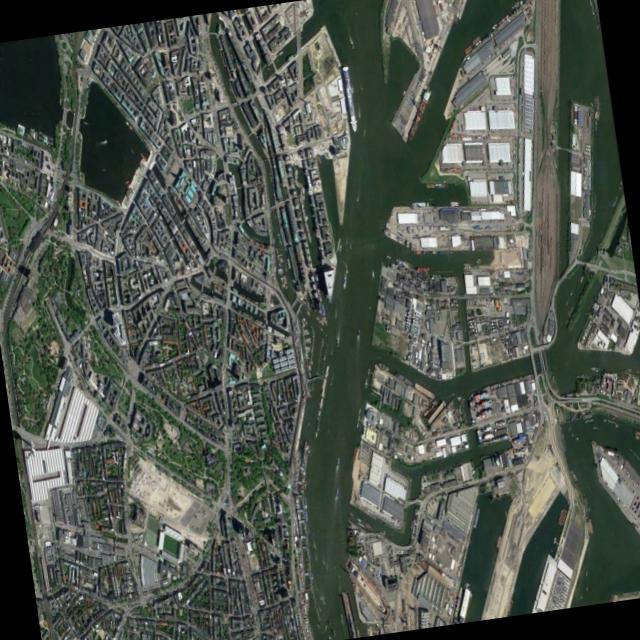ship: (345, 558, 388, 614), (408, 88, 431, 140), (343, 65, 358, 131), (421, 397, 439, 419)
